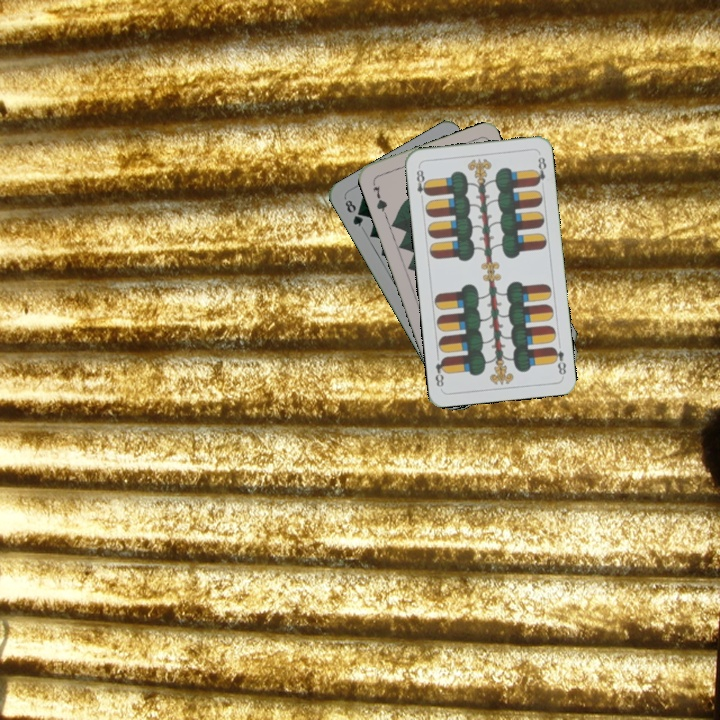E8: (412, 163, 431, 203), (548, 343, 569, 377)
G7: (369, 177, 390, 217)
G8: (341, 196, 366, 229)
